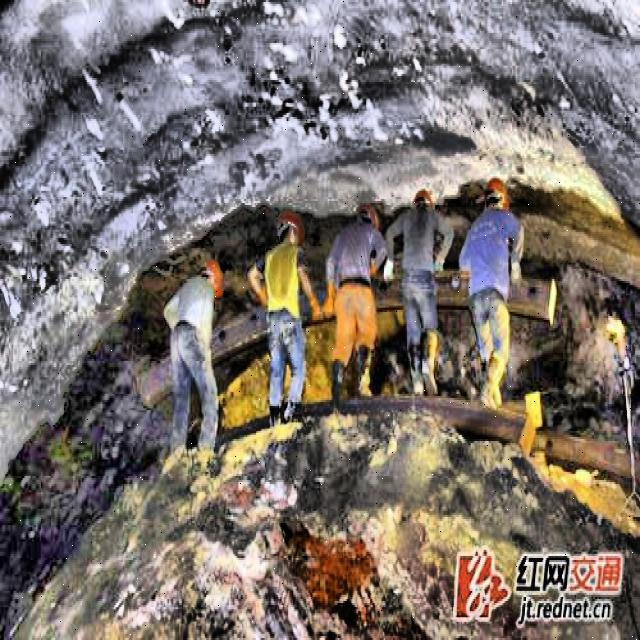helmet: (482, 172, 516, 222), (352, 199, 384, 240), (274, 209, 304, 250), (201, 258, 225, 300), (409, 182, 436, 214)
